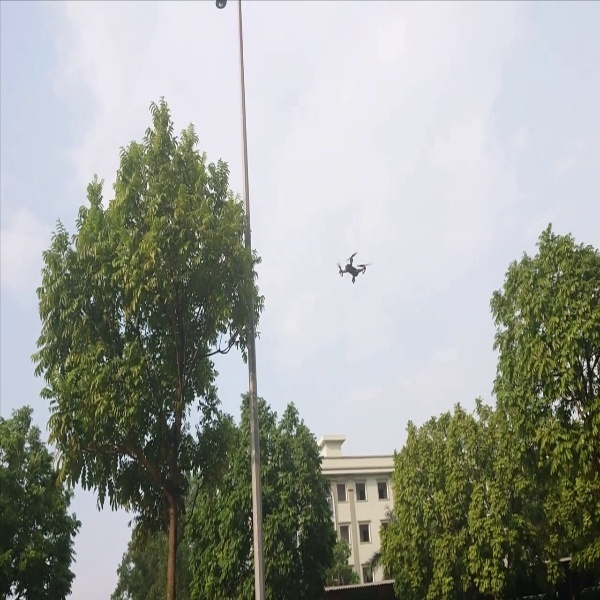drone: (330, 241, 371, 286)
